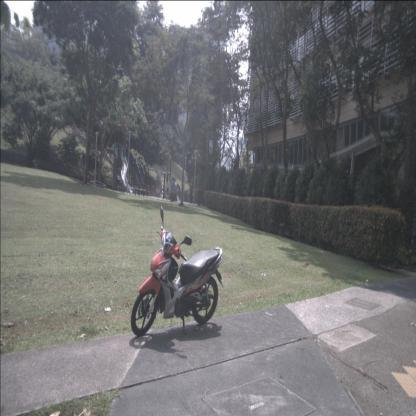human-pedestrian-adult: (188, 181, 193, 204)
vehicle-motorcycle: (130, 205, 224, 337)
